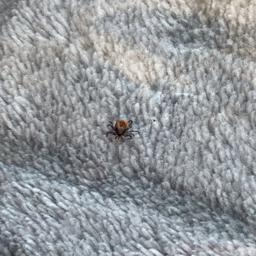Ixodes scapularis: (105, 119, 136, 142)
